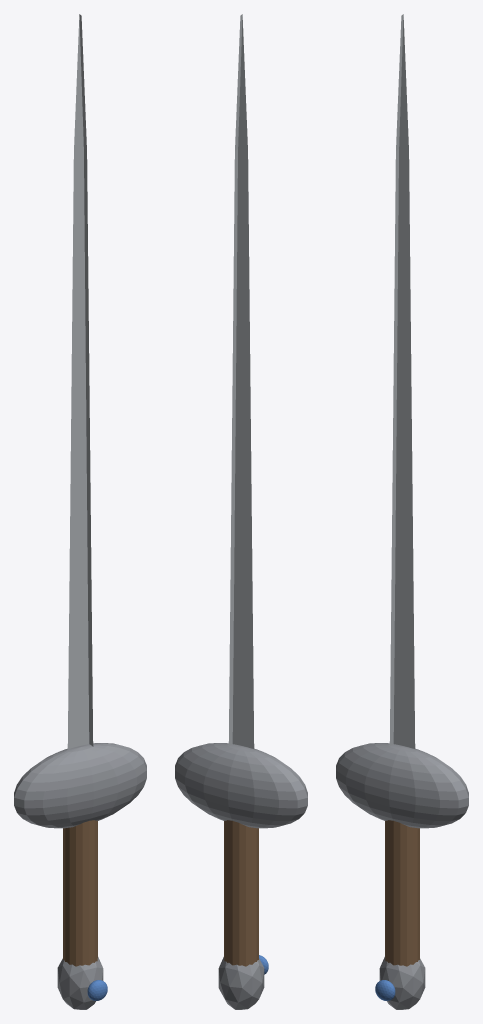
Rendered from rapier_with_sapphire_gemstone.glb.
The picture shows the model from 3 angles, left to right: view 1: azimuth 30°, elevation 25°; view 2: azimuth 150°, elevation 25°; view 3: azimuth 330°, elevation 25°; orthographic projection.
Visible parts, largest first — view 1: sword_0_0, sword_0_1, sword_0_2, sword_0_3, sword_0_4; view 2: sword_0_0, sword_0_1, sword_0_2, sword_0_3; view 3: sword_0_0, sword_0_1, sword_0_2, sword_0_3, sword_0_4.
Boxes of the visible parts, x1=… form: sword_0_0: x1=67, y1=14, x2=93, y2=748; sword_0_1: x1=14, y1=743, x2=146, y2=828; sword_0_2: x1=63, y1=820, x2=97, y2=966; sword_0_3: x1=57, y1=957, x2=103, y2=1009; sword_0_4: x1=87, y1=980, x2=107, y2=1000; sword_0_0: x1=228, y1=14, x2=254, y2=748; sword_0_1: x1=175, y1=743, x2=307, y2=828; sword_0_2: x1=224, y1=820, x2=258, y2=966; sword_0_3: x1=218, y1=957, x2=264, y2=1009; sword_0_0: x1=389, y1=14, x2=415, y2=748; sword_0_1: x1=336, y1=743, x2=468, y2=828; sword_0_2: x1=385, y1=820, x2=419, y2=966; sword_0_3: x1=379, y1=957, x2=425, y2=1009; sword_0_4: x1=375, y1=980, x2=395, y2=1000.
Bounding box in the file's own units: 0.6934 × 4.97 × 0.3067.
